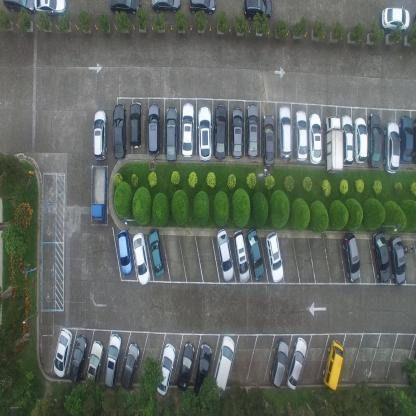car: (212, 335, 235, 395), (286, 336, 308, 391), (321, 340, 344, 392), (193, 342, 213, 400), (324, 113, 343, 174), (156, 341, 176, 395), (84, 340, 104, 393), (119, 340, 140, 390), (268, 338, 288, 390), (53, 327, 73, 378), (232, 228, 250, 284), (216, 228, 234, 284), (104, 332, 122, 388), (90, 166, 107, 225), (246, 225, 264, 280), (264, 230, 283, 282), (69, 332, 88, 384), (132, 232, 150, 286), (176, 339, 195, 390), (372, 229, 390, 282), (341, 232, 360, 281), (367, 110, 382, 170), (112, 102, 127, 161), (384, 120, 400, 175), (387, 236, 405, 284), (164, 106, 179, 162), (277, 104, 292, 159), (197, 106, 212, 161), (148, 229, 165, 277), (93, 108, 108, 162), (381, 4, 409, 32), (181, 102, 195, 158), (352, 116, 368, 164), (214, 103, 227, 162), (398, 113, 413, 162), (308, 112, 322, 164), (294, 110, 308, 162), (147, 102, 160, 158), (117, 229, 132, 277), (242, 0, 272, 23), (129, 101, 143, 150), (246, 103, 258, 160), (34, 0, 67, 20), (340, 113, 352, 168), (231, 107, 243, 160), (263, 113, 274, 168), (2, 0, 36, 17), (109, 0, 142, 15), (150, 0, 183, 14), (188, 0, 216, 15), (412, 115, 416, 166)
